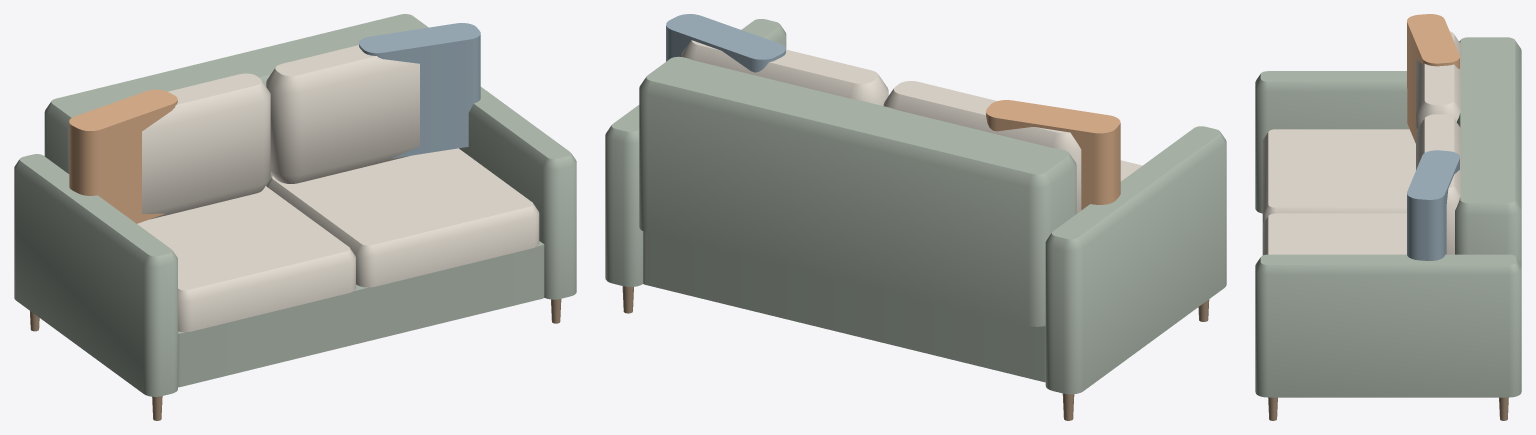
3 renders of one model, left to right at view 1: azimuth 30°, elevation 25°; view 2: azimuth 150°, elevation 25°; view 3: azimuth 270°, elevation 25°, orthographic. The views are drawn at different scales.
Parts seen in each view (by area): view 1: Sofa giường Chiều dài=1600; view 2: Sofa giường Chiều dài=1600; view 3: Sofa giường Chiều dài=1600.
Part boxes in pixels (x1,y1,x2,y2): Sofa giường Chiều dài=1600: (14, 14, 576, 420); Sofa giường Chiều dài=1600: (605, 14, 1226, 420); Sofa giường Chiều dài=1600: (1255, 14, 1521, 420).
Size of the model in its own units: 1.6 by 0.83 by 0.907.
